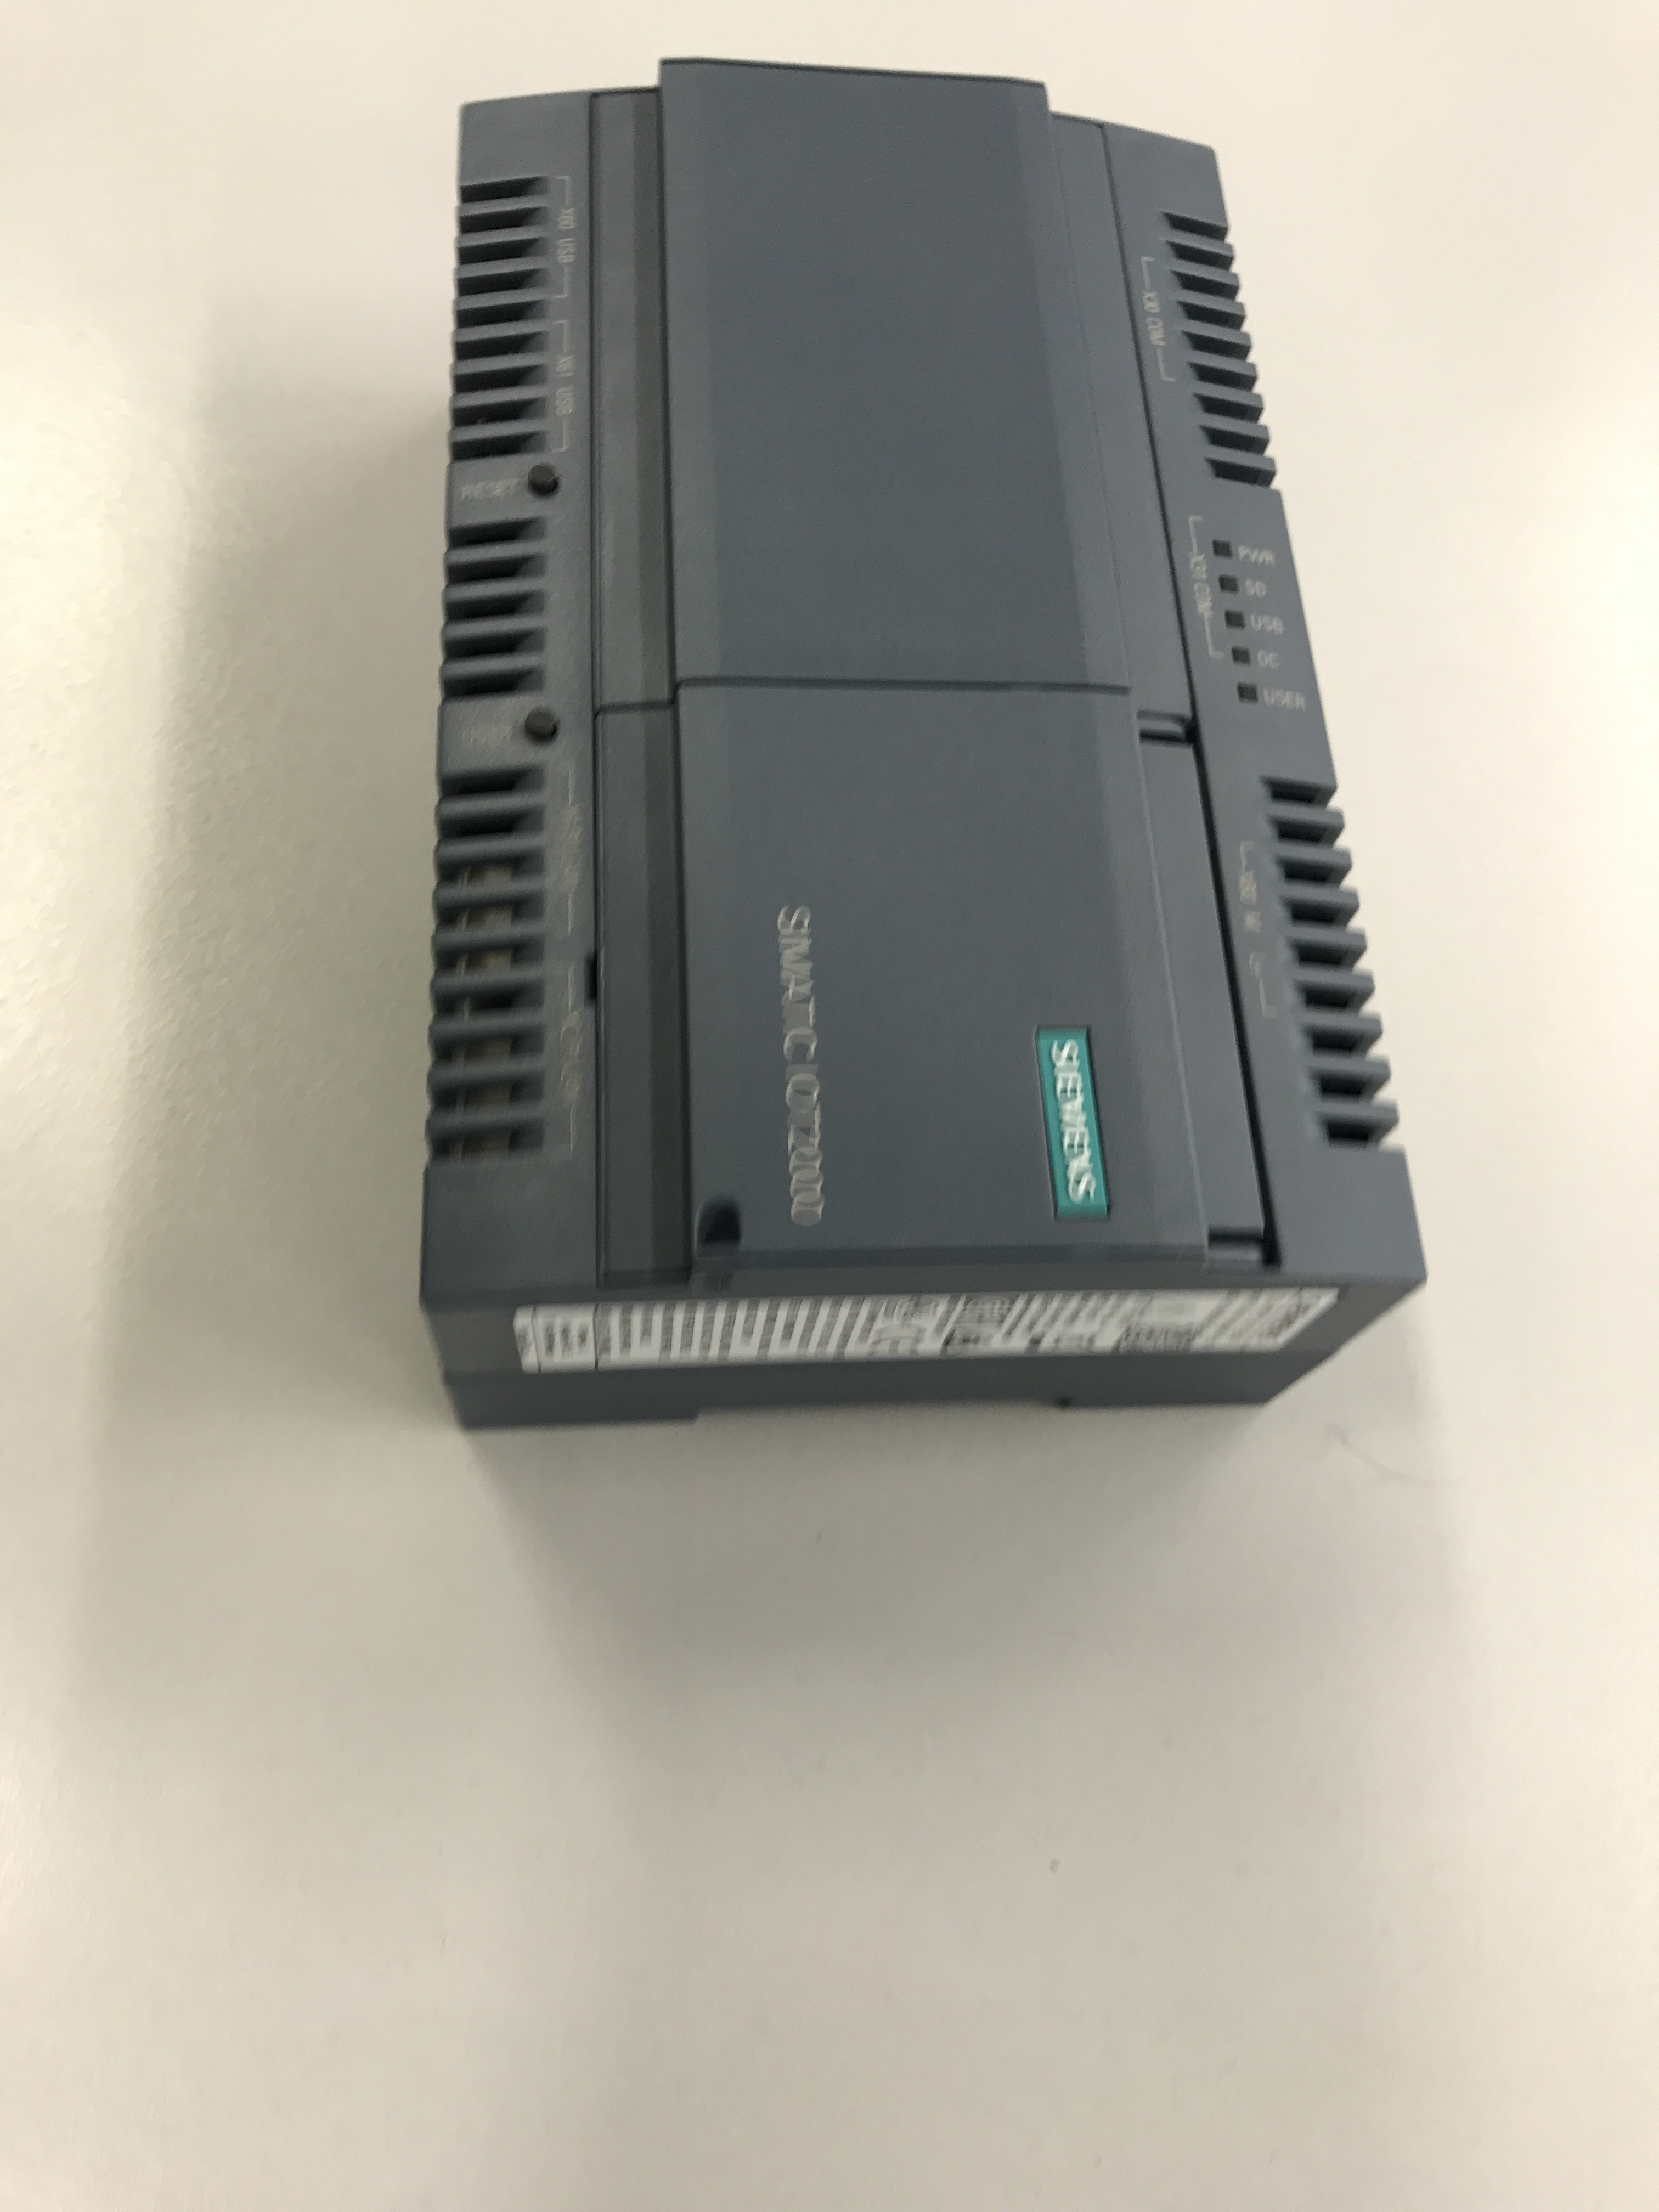device: (415, 56, 1431, 1433)
